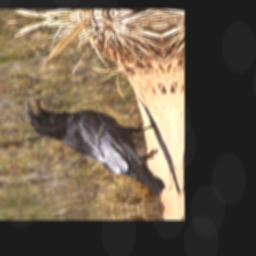Crow: (25, 89, 167, 208)
